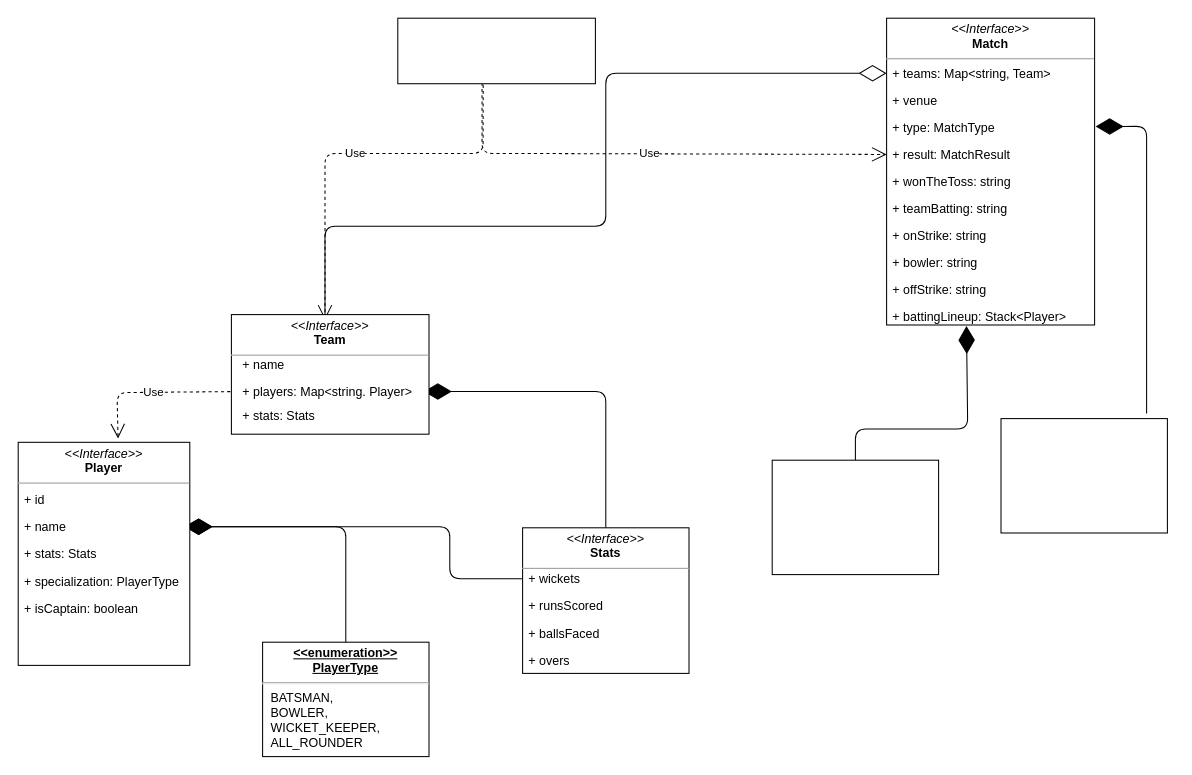
Some shapes in this 1192 by 775 pixel diagram are drawn without their labels. The centre of each missing label's shape, as x and y in pixels:
"<<enumeration>> MatchResult WON, LOST, TIED" belongs at (855,517).
"<<enumeration>> MatchType ODI, T20I, TEST" belongs at (1083,475).
"<<Interface>> ScoreBoard + teamStats: Stats[]" belongs at (496,50).
